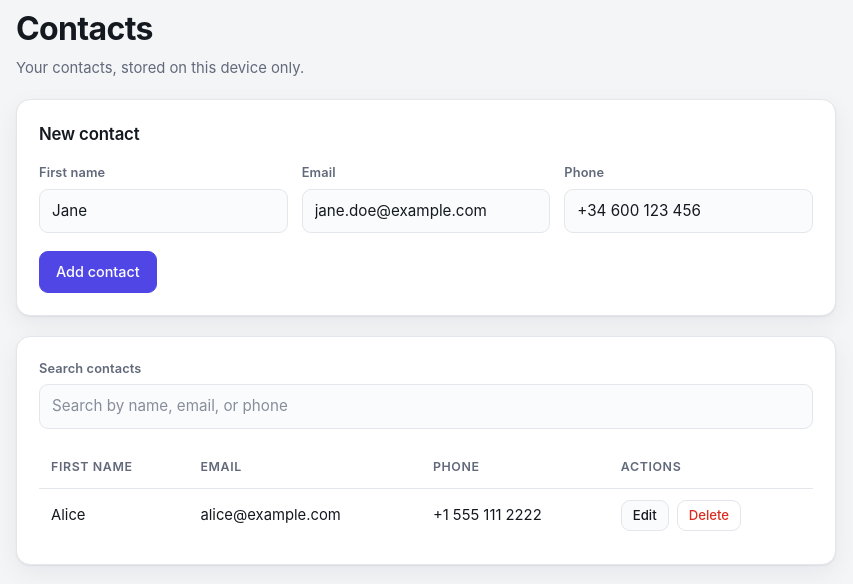
Test: editing a contact › abandons the edit when Cancel is pressed
Step 1. Click the button "Edit" → (645, 515), box [621,500,669,531]
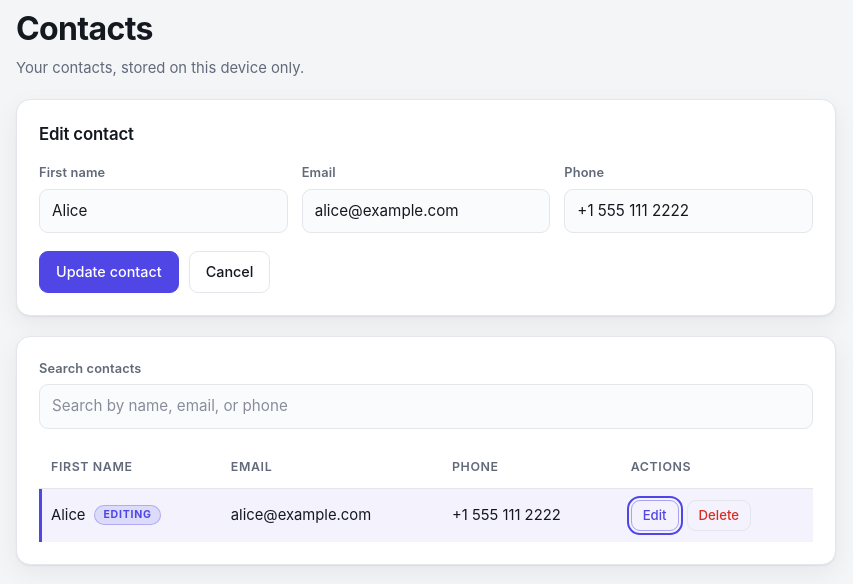
Step 2. Replace the text in the field labelled "First name" with "Changed" → (163, 211), box [39,189,288,233]
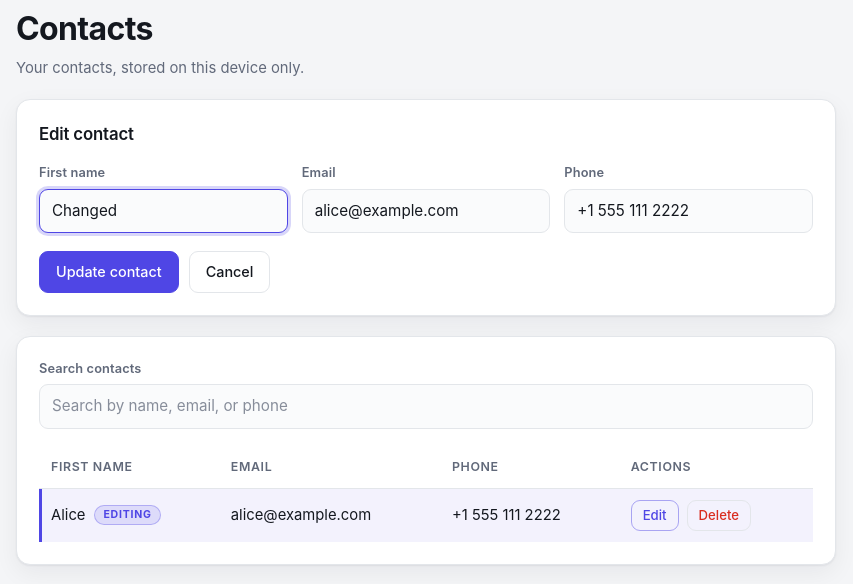
Step 3. Click the button "Cancel" → (230, 272), box [189,251,270,293]
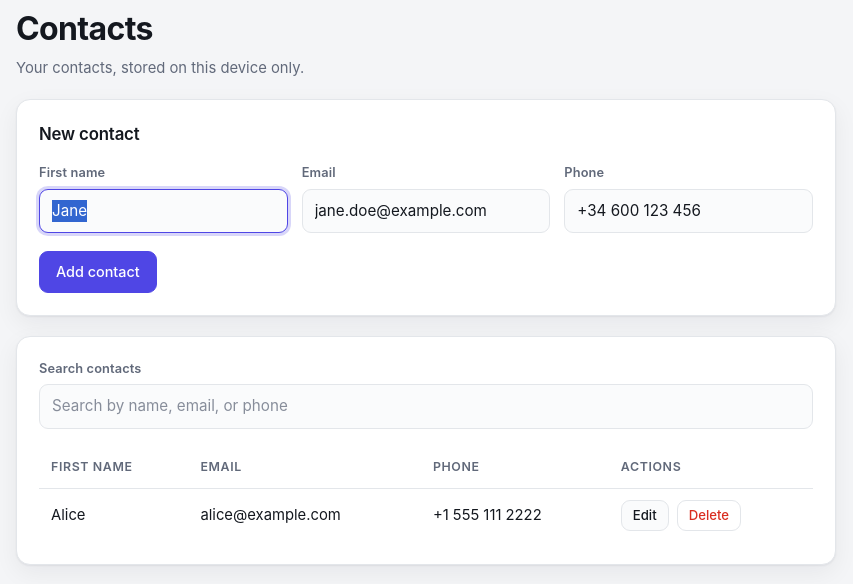
Check: the row "Alice alice@example.com +1 555 111 2222 Edit Delete" is shown, box [39,488,813,542]
Check: the field labelled "First name" holds "Jane", box [39,189,288,233]
Check: the button "Add contact" is shown, box [39,251,157,293]
